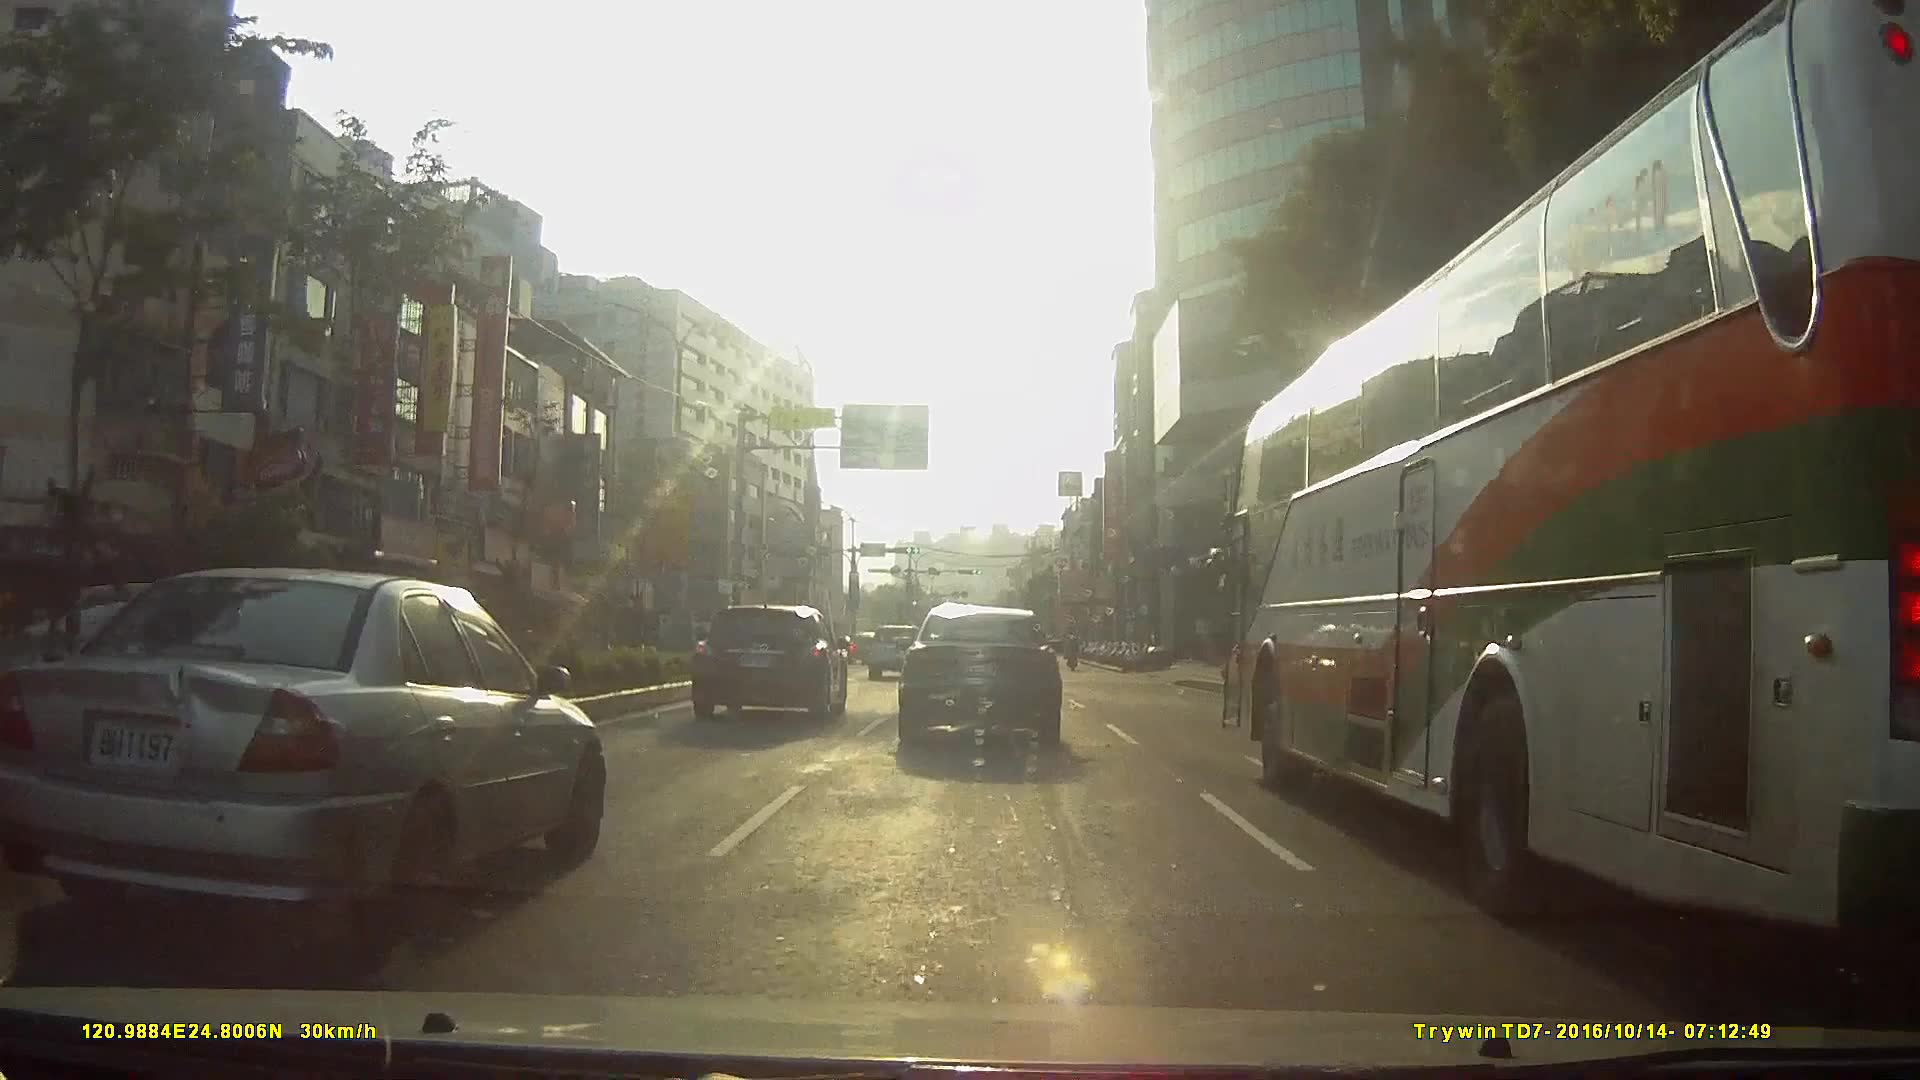vehicle: (1187, 55, 1915, 927), (0, 564, 603, 953), (893, 600, 1060, 750), (688, 603, 848, 720), (862, 624, 924, 680)
